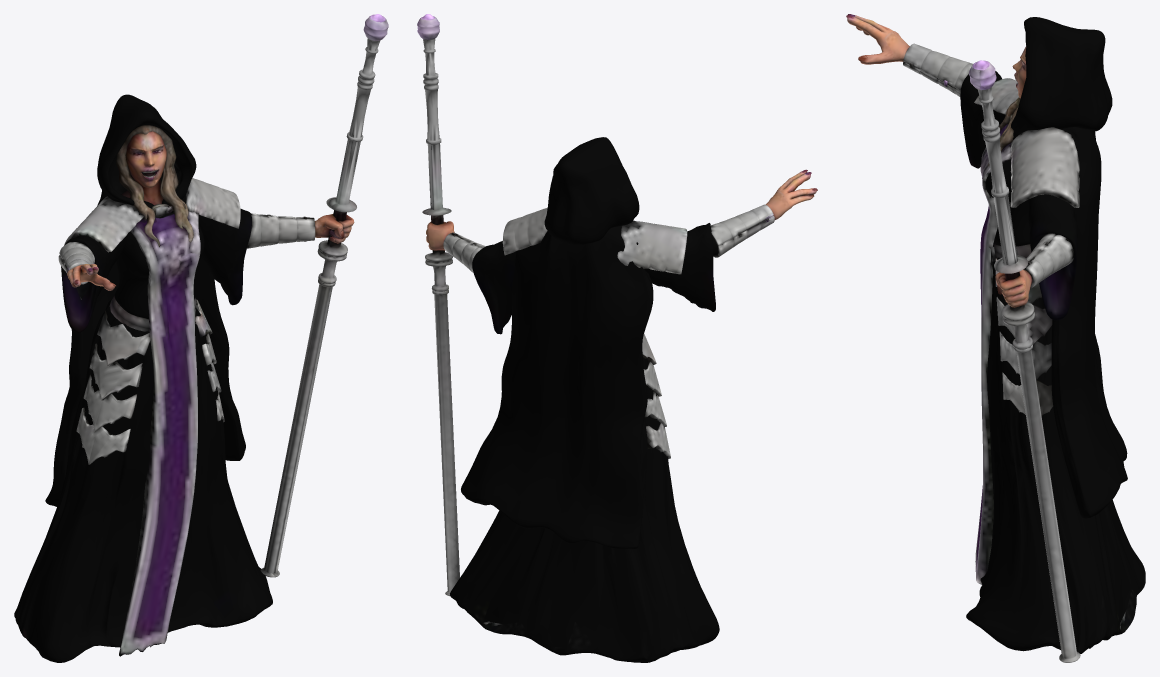
File: MZ4250 - Archpriest Female_1 2025.glb
3 views of the same model, side by side, from view 1: azimuth 30°, elevation 25°; view 2: azimuth 150°, elevation 25°; view 3: azimuth 270°, elevation 25° (orthographic). The views are drawn at different scales.
Visible parts, largest first — view 1: Stuff.003; view 2: Stuff.003; view 3: Stuff.003.
Boxes of the visible parts, x1=… form: Stuff.003: x1=14, y1=14, x2=388, y2=662; Stuff.003: x1=417, y1=14, x2=817, y2=662; Stuff.003: x1=846, y1=14, x2=1145, y2=662.
Bounding box in the file's own units: 70.37 × 106 × 44.69.
3 materials, 3 textured.
